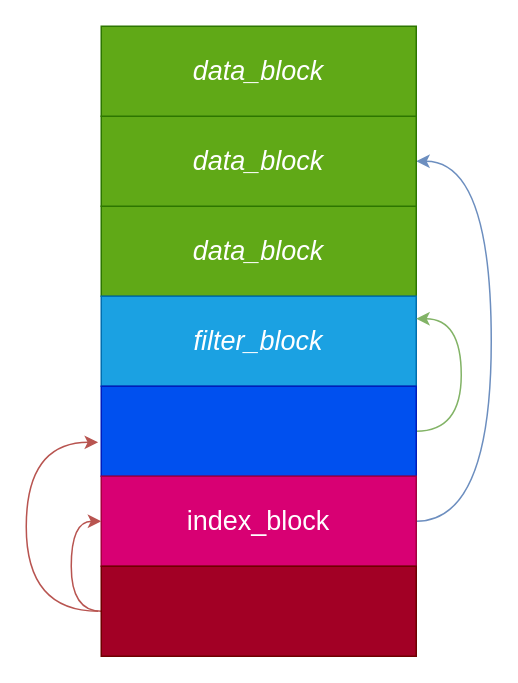
The diagram is 518 pixels wide and 683 high, and some of its shapes have lost their labels. The shapes that lost their labels are listed below. From the top down, each one's centre as x and y in pixels, then its label:
At point 258,430: "meta_index_block".
At point 258,610: "footer".
